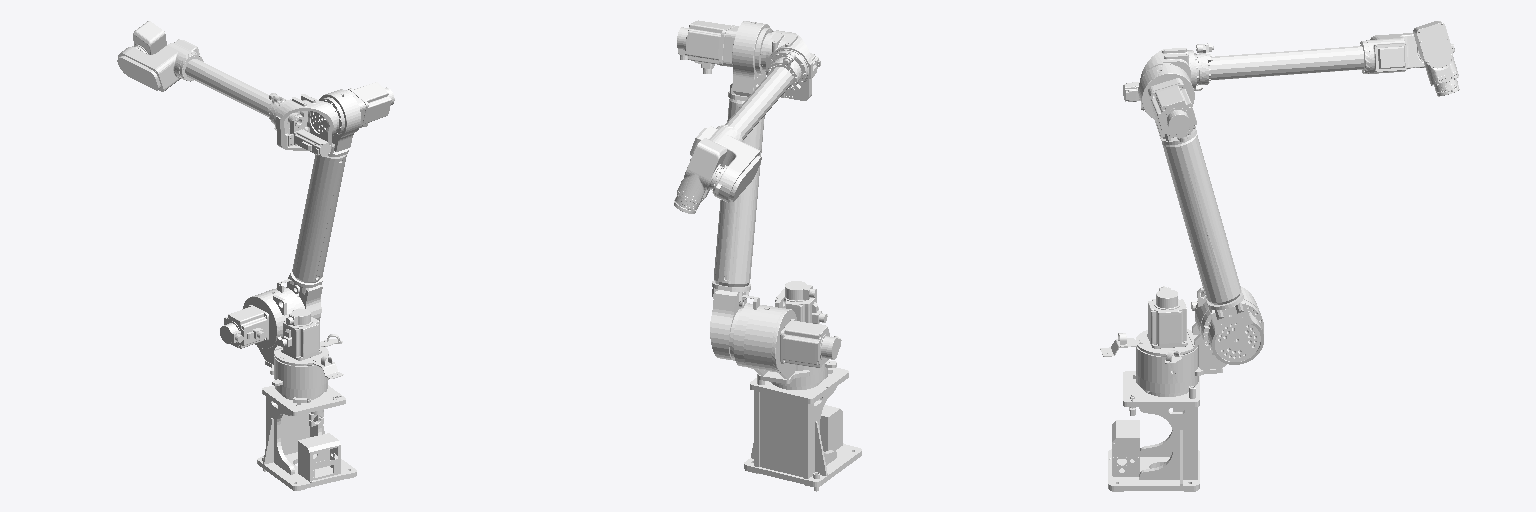
robot.urdf — mm16:
<robot
  name="mm16">
  <link
    name="base_link">
    <inertial>
      <origin
        xyz="0.000796017176890106 0.0205385723010028 0.140298256687368"
        rpy="0 0 0" />
      <mass
        value="6.20364367976087" />
      <inertia
        ixx="0.107440993673152"
        ixy="-0.000446399093908121"
        ixz="-0.000684884190862526"
        iyy="0.101094085917837"
        iyz="-0.0100325683270739"
        izz="0.0413625682453196" />
    </inertial>
    <visual>
      <origin
        xyz="0 0 0"
        rpy="0 0 0" />
      <geometry>
        <mesh
          filename="package://mm16/meshes/base_link.STL" />
      </geometry>
      <material
        name="">
        <color
          rgba="1 1 1 1" />
      </material>
    </visual>
    <collision>
      <origin
        xyz="0 0 0"
        rpy="0 0 0" />
      <geometry>
        <mesh
          filename="package://mm16/meshes/base_link.STL" />
      </geometry>
    </collision>
  </link>
  <link
    name="Link_1">
    <inertial>
      <origin
        xyz="-0.0200516722869154 0.107655320982842 0.198740966449916"
        rpy="0 0 0" />
      <mass
        value="15.3009575539307" />
      <inertia
        ixx="0.290987131371956"
        ixy="0.0200966604642668"
        ixz="0.0168449388884051"
        iyy="0.180658275957735"
        iyz="-0.0886459132586967"
        izz="0.24518065336359" />
    </inertial>
    <visual>
      <origin
        xyz="0 0 0"
        rpy="0 0 0" />
      <geometry>
        <mesh
          filename="package://mm16/meshes/Link_1.STL" />
      </geometry>
      <material
        name="">
        <color
          rgba="1 1 1 1" />
      </material>
    </visual>
    <collision>
      <origin
        xyz="0 0 0"
        rpy="0 0 0" />
      <geometry>
        <mesh
          filename="package://mm16/meshes/Link_1.STL" />
      </geometry>
    </collision>
  </link>
  <joint
    name="Joint_1"
    type="fixed">
    <origin
      xyz="0 0.02 0.324"
      rpy="0 0 0" />
    <parent
      link="base_link" />
    <child
      link="Link_1" />
    <axis
      xyz="0 0 0" />
  </joint>
  <link
    name="Link_2">
    <inertial>
      <origin
        xyz="0.0960750671192594 -0.150194050603257 0.639685143859586"
        rpy="0 0 0" />
      <mass
        value="12.0089884896966" />
      <inertia
        ixx="1.71935526819551"
        ixy="0.0413716188069338"
        ixz="-0.206004341686803"
        iyy="1.69605960992515"
        iyz="0.387892437313023"
        izz="0.164958952589125" />
    </inertial>
    <visual>
      <origin
        xyz="0 0 0"
        rpy="0 0 0" />
      <geometry>
        <mesh
          filename="package://mm16/meshes/Link_2.STL" />
      </geometry>
      <material
        name="">
        <color
          rgba="1 1 1 1" />
      </material>
    </visual>
    <collision>
      <origin
        xyz="0 0 0"
        rpy="0 0 0" />
      <geometry>
        <mesh
          filename="package://mm16/meshes/Link_2.STL" />
      </geometry>
    </collision>
  </link>
  <joint
    name="Joint_2"
    type="fixed">
    <origin
      xyz="0.0991795895583979 0.240591789167925 0.257000000000002"
      rpy="0 0 0" />
    <parent
      link="Link_1" />
    <child
      link="Link_2" />
    <axis
      xyz="0 0 0" />
  </joint>
  <link
    name="Link_3">
    <inertial>
      <origin
        xyz="-0.0826647041008687 0.0331414578392525 -0.0246263153113739"
        rpy="0 0 0" />
      <mass
        value="3.21031785063116" />
      <inertia
        ixx="0.00986866372828523"
        ixy="0.001620247462069"
        ixz="0.000133194055326333"
        iyy="0.00389961713811275"
        iyz="-0.00325772967014944"
        izz="0.00969456786594002" />
    </inertial>
    <visual>
      <origin
        xyz="0 0 0"
        rpy="0 0 0" />
      <geometry>
        <mesh
          filename="package://mm16/meshes/Link_3.STL" />
      </geometry>
      <material
        name="">
        <color
          rgba="1 1 1 1" />
      </material>
    </visual>
    <collision>
      <origin
        xyz="0 0 0"
        rpy="0 0 0" />
      <geometry>
        <mesh
          filename="package://mm16/meshes/Link_3.STL" />
      </geometry>
    </collision>
  </link>
  <joint
    name="Joint_3"
    type="fixed">
    <origin
      xyz="0.00316741757599162 -0.257071621274347 0.987919606547656"
      rpy="0 0 0" />
    <parent
      link="Link_2" />
    <child
      link="Link_3" />
    <axis
      xyz="0 0 0" />
  </joint>
  <link
    name="Link_4">
    <inertial>
      <origin
        xyz="-0.123397581051654 0.537563758555033 -0.00979028891067979"
        rpy="0 0 0" />
      <mass
        value="4.00058026260674" />
      <inertia
        ixx="0.193424267738876"
        ixy="0.0565821537405877"
        ixz="-0.00329048053799947"
        iyy="0.0191295832578099"
        iyz="0.0100255401821807"
        izz="0.210855546729433" />
    </inertial>
    <visual>
      <origin
        xyz="0 0 0"
        rpy="0 0 0" />
      <geometry>
        <mesh
          filename="package://mm16/meshes/Link_4.STL" />
      </geometry>
      <material
        name="">
        <color
          rgba="1 1 1 1" />
      </material>
    </visual>
    <collision>
      <origin
        xyz="0 0 0"
        rpy="0 0 0" />
      <geometry>
        <mesh
          filename="package://mm16/meshes/Link_4.STL" />
      </geometry>
    </collision>
  </link>
  <joint
    name="Joint_4"
    type="fixed">
    <origin
      xyz="-0.12211827266891 0.129969579485987 -0.000189442860176525"
      rpy="0 0 0" />
    <parent
      link="Link_3" />
    <child
      link="Link_4" />
    <axis
      xyz="0 0 0" />
  </joint>
  <link
    name="Link_5">
    <inertial>
      <origin
        xyz="0.0544078443279082 0.0135681916953593 0.000426696726181008"
        rpy="0 0 0" />
      <mass
        value="1.34976948670171" />
      <inertia
        ixx="0.00296602526400798"
        ixy="-0.000299484427904848"
        ixz="0.000871167343508096"
        iyy="0.00307046569886735"
        iyz="0.000856672057688007"
        izz="0.000693078397527671" />
    </inertial>
    <visual>
      <origin
        xyz="0 0 0"
        rpy="0 0 0" />
      <geometry>
        <mesh
          filename="package://mm16/meshes/Link_5.STL" />
      </geometry>
      <material
        name="">
        <color
          rgba="1 1 1 1" />
      </material>
    </visual>
    <collision>
      <origin
        xyz="0 0 0"
        rpy="0 0 0" />
      <geometry>
        <mesh
          filename="package://mm16/meshes/Link_5.STL" />
      </geometry>
    </collision>
  </link>
  <joint
    name="Joint_5"
    type="fixed">
    <origin
      xyz="-0.200685207711332 0.83796643852941 -0.0196645697689157"
      rpy="0 0 0" />
    <parent
      link="Link_4" />
    <child
      link="Link_5" />
    <axis
      xyz="0 0 0" />
  </joint>
  <link
    name="Link_6">
    <inertial>
      <origin
        xyz="0.00286271184241695 0.00309524927860516 -0.00881646034345573"
        rpy="0 0 0" />
      <mass
        value="0.0508990201322787" />
      <inertia
        ixx="2.88228629324778E-07"
        ixy="-1.81920720764921E-07"
        ixz="-4.35929929636897E-07"
        iyy="1.05158174824974E-06"
        iyz="-9.77618000717052E-08"
        izz="8.52798595056116E-07" />
    </inertial>
    <visual>
      <origin
        xyz="0 0 0"
        rpy="0 0 0" />
      <geometry>
        <mesh
          filename="package://mm16/meshes/Link_6.STL" />
      </geometry>
      <material
        name="">
        <color
          rgba="1 1 1 1" />
      </material>
    </visual>
    <collision>
      <origin
        xyz="0 0 0"
        rpy="0 0 0" />
      <geometry>
        <mesh
          filename="package://mm16/meshes/Link_6.STL" />
      </geometry>
    </collision>
  </link>
  <joint
    name="Jonit_6"
    type="revolute">
    <origin
      xyz="0.090047 0.048039 -0.10644"
      rpy="0 0 0" />
    <parent
      link="Link_5" />
    <child
      link="Link_6" />
    <axis
      xyz="-0.27177 -0.28505 0.91918" />
    <limit
      lower="-3"
      upper="3"
      effort="0"
      velocity="0" />
  </joint>
</robot>

--- Render facts (derived) ---
Views: 3 orthographic renders of the robot side by side, from view 1: azimuth 30°, elevation 25°; view 2: azimuth 150°, elevation 25°; view 3: azimuth 270°, elevation 25°.
Model mm16 with 7 links and 6 joints (1 revolute, 5 fixed), rooted at base_link, posed all joints at 0.
Links seen in each view (by area): view 1: Link_1, Link_2, base_link, Link_4, Link_3, Link_5; view 2: Link_2, base_link, Link_1, Link_4, Link_5, Link_3; view 3: Link_2, base_link, Link_1, Link_4, Link_5, Link_3.
Link boxes in pixels (left/top/right/bottom): Link_1: left=220, top=279, right=343, bottom=405; Link_2: left=286, top=82, right=394, bottom=320; base_link: left=257, top=385, right=356, bottom=490; Link_4: left=117, top=39, right=285, bottom=124; Link_3: left=273, top=94, right=336, bottom=156; Link_5: left=133, top=21, right=166, bottom=54; Link_2: left=677, top=20, right=773, bottom=360; base_link: left=744, top=367, right=861, bottom=491; Link_1: left=729, top=281, right=841, bottom=389; Link_4: left=690, top=52, right=799, bottom=202; Link_5: left=675, top=138, right=726, bottom=210; Link_3: left=766, top=30, right=820, bottom=100; Link_2: left=1138, top=64, right=1263, bottom=364; base_link: left=1108, top=371, right=1199, bottom=491; Link_1: left=1100, top=286, right=1263, bottom=396; Link_4: left=1196, top=33, right=1454, bottom=84; Link_5: left=1413, top=21, right=1458, bottom=92; Link_3: left=1123, top=48, right=1202, bottom=110.
Bounding box of the posed robot: 0.779 × 1.28 × 1.72 m (x, y, z).
7 mesh visuals loaded from 7 distinct referenced files (7 binary STL).
